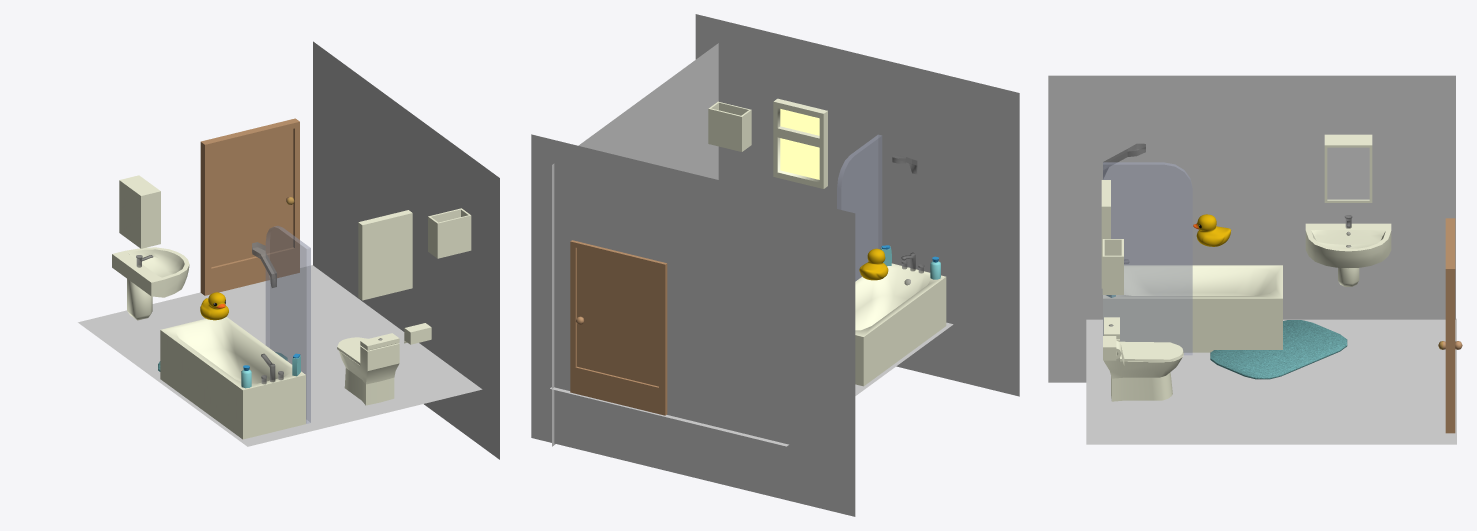
File: Bathroom7.glb
3 views of the same model, side by side, from view 1: azimuth 30°, elevation 25°; view 2: azimuth 150°, elevation 25°; view 3: azimuth 270°, elevation 25° (orthographic). The views are drawn at different scales.
Visible parts, largest first — view 1: Kitchen.001, Kitchen, Cylinder.002, Bathtub.004, BathScreen.001, WindowDay.001, SinkBase.004, Toilet.002, MirrorCabinet.001, WallLamp.002, Pipes.004, duck; view 2: Kitchen.003, Kitchen.002, Cylinder.002, Kitchen.001, Bathtub.004, WindowDay.001, BathScreen.001, WallLamp.002, Kitchen, duck; view 3: Kitchen.001, Kitchen, BathScreen.001, Bathtub.004, Carpet.002, SinkBase.004, Mirror.006, Toilet.002, Cylinder.002, WallLamp.002, Lid.002, duck (+2 smaller).
Boxes of the visible parts, x1=… form: Kitchen.001: x1=313, y1=41, x2=499, y2=459; Kitchen: x1=78, y1=265, x2=482, y2=446; Cylinder.002: x1=200, y1=118, x2=299, y2=295; Bathtub.004: x1=160, y1=317, x2=305, y2=439; BathScreen.001: x1=265, y1=226, x2=310, y2=423; WindowDay.001: x1=358, y1=210, x2=412, y2=300; SinkBase.004: x1=112, y1=247, x2=189, y2=297; Toilet.002: x1=339, y1=343, x2=399, y2=405; MirrorCabinet.001: x1=119, y1=176, x2=157, y2=248; WallLamp.002: x1=428, y1=208, x2=471, y2=258; Pipes.004: x1=127, y1=279, x2=152, y2=320; duck: x1=200, y1=292, x2=228, y2=320; Kitchen.003: x1=531, y1=134, x2=855, y2=516; Kitchen.002: x1=695, y1=14, x2=1019, y2=396; Cylinder.002: x1=570, y1=240, x2=667, y2=415; Kitchen.001: x1=552, y1=43, x2=718, y2=446; Bathtub.004: x1=855, y1=263, x2=946, y2=386; WindowDay.001: x1=773, y1=98, x2=827, y2=188; BathScreen.001: x1=837, y1=134, x2=882, y2=281; WallLamp.002: x1=708, y1=101, x2=751, y2=151; Kitchen: x1=550, y1=322, x2=953, y2=446; duck: x1=859, y1=248, x2=888, y2=280; Kitchen.001: x1=1048, y1=75, x2=1455, y2=382; Kitchen: x1=1086, y1=318, x2=1456, y2=444; BathScreen.001: x1=1103, y1=162, x2=1192, y2=355; Bathtub.004: x1=1103, y1=265, x2=1282, y2=352; Carpet.002: x1=1210, y1=320, x2=1347, y2=379; SinkBase.004: x1=1305, y1=223, x2=1391, y2=267; Mirror.006: x1=1324, y1=143, x2=1372, y2=202; Toilet.002: x1=1104, y1=339, x2=1183, y2=401; Cylinder.002: x1=1438, y1=218, x2=1462, y2=433; WallLamp.002: x1=1102, y1=239, x2=1123, y2=294; Lid.002: x1=1119, y1=341, x2=1183, y2=361; duck: x1=1193, y1=214, x2=1231, y2=246.
Size of the model in its own units: 14.16 by 12.75 by 14.39.
Materials: 14 (2 with a texture image).
